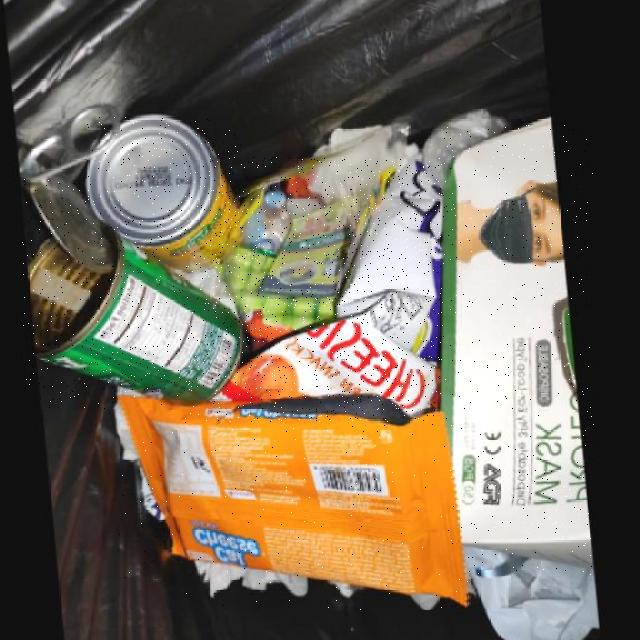metal: (21, 179, 243, 408), (87, 117, 241, 275)
paper: (444, 124, 594, 575)
wrapper: (120, 397, 468, 610), (212, 157, 445, 422), (258, 209, 356, 300)
